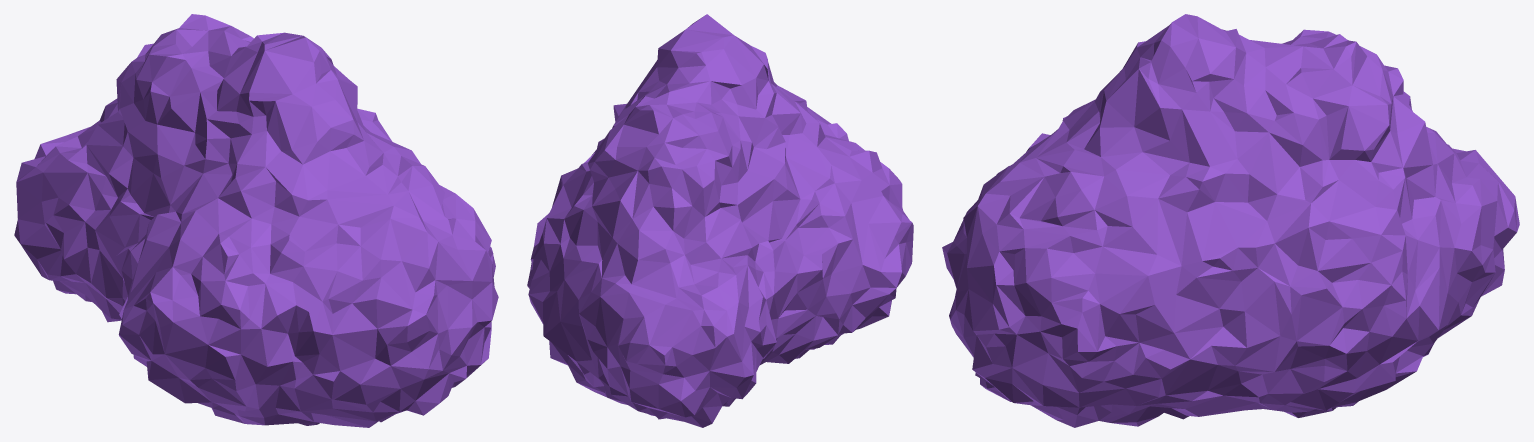
File: little rock_01.fbx
3 views of the same model, side by side, from view 1: azimuth 30°, elevation 25°; view 2: azimuth 150°, elevation 25°; view 3: azimuth 270°, elevation 25° (orthographic). The views are drawn at different scales.
Parts seen in each view (by area): view 1: little rock1; view 2: little rock1; view 3: little rock1.
Part boxes in pixels (box(x1,y1,x2,y2)): little rock1: box(14, 14, 498, 427); little rock1: box(527, 14, 913, 427); little rock1: box(942, 14, 1519, 427).
Size of the model in its own units: 428 by 429 by 580.
